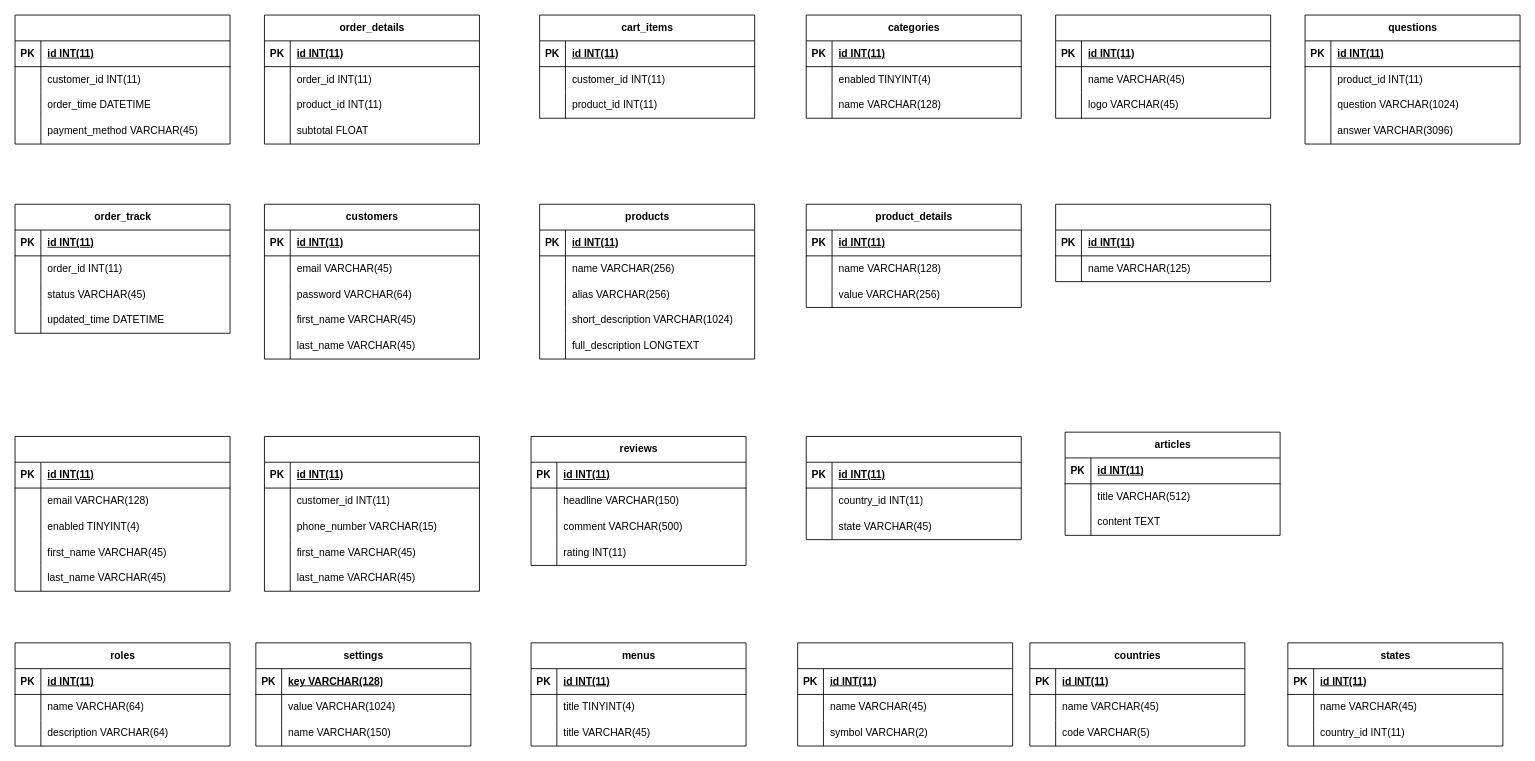
Image size: 1535x761. Some labels were removed from this diagram. The shapes that lost their labels are listed below. From the top down, each one's box as (x1, y1, x2, y2) in pixels, then its label:
(14, 14, 230, 144): orders
(1055, 14, 1271, 118): brands
(1055, 203, 1271, 282): product_images
(805, 436, 1021, 540): shipping_rates
(14, 436, 230, 591): users
(264, 436, 479, 591): addresses
(797, 642, 1013, 746): currencies
